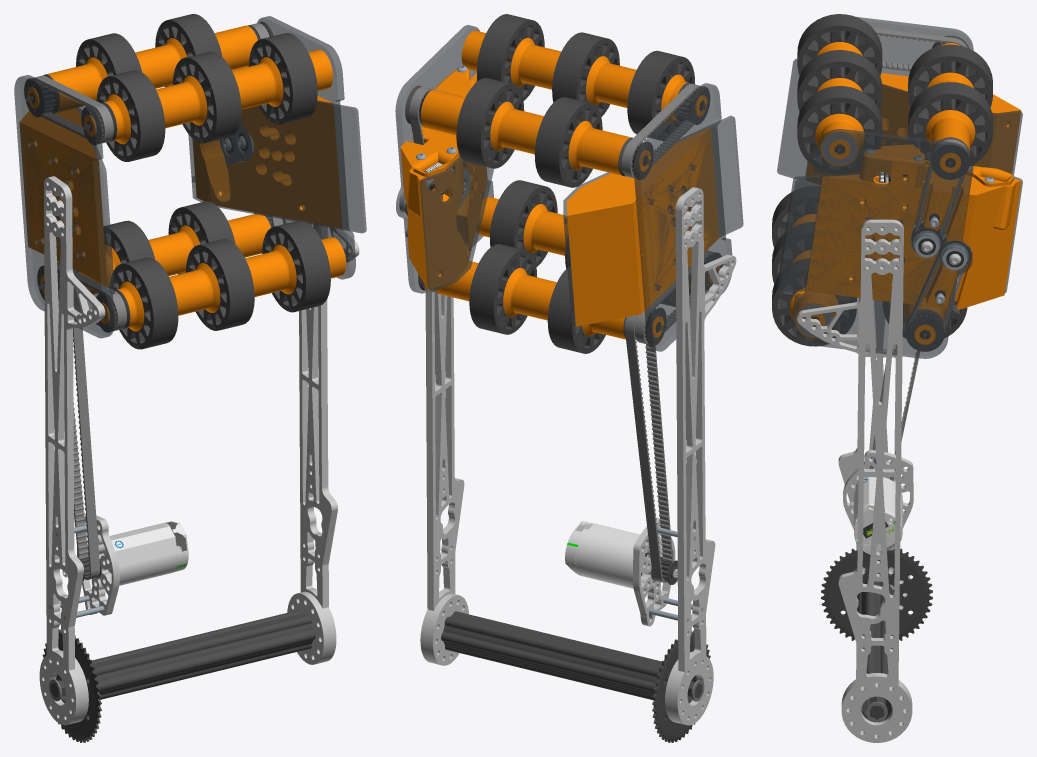
3 renders of one model, left to right at view 1: azimuth 30°, elevation 25°; view 2: azimuth 150°, elevation 25°; view 3: azimuth 270°, elevation 25°, orthographic. The views are drawn at different scales.
Visible parts, largest first — view 1: WCP-1358 (×10), Arm Plate (×2), End effector <1>, BentCoralGuideWithTOFHoles, SidePlateNoGearbox, 3dpSpacerWithGearbox, SplineXL Tube (WCP-0918), 3dpSpacerNoGearbox, 120T HTD Belt, SidePlateWithGearbox, WCP-0941, 60T HTD Belt (×2) (+5 smaller); view 2: Arm Plate (×2), WCP-1358 (×8), 3dpSpacerNoGearbox, End effector <1>, SidePlateNoGearbox, SplineXL Tube (WCP-0918), 3dpSpacerWithGearbox, BentCoralGuideWithTOFHoles, 120T HTD Belt, BentCoralGuide, SidePlateWithGearbox, WCP-0941 (+8 smaller); view 3: SidePlateWithGearbox, WCP-1358 (×9), Arm Plate (×2), 3dpSpacerWithGearbox, BentCoralGuide, End effector <1>, 48t Aluminum Plate Sprocket (#25 Chain, SplineXL Bore), BentCoralGuideWithTOFHoles, 3dpSpacerNoGearbox, SidePlateNoGearbox, TOFcover2, 20T_19MM_Wide_6328_Endcap (×2) (+9 smaller).
Boxes of the visible parts, x1=… form: WCP-1358 (×10): x1=76, y1=14, x2=330, y2=349; Arm Plate (×2): x1=39, y1=176, x2=359, y2=725; End effector <1>: x1=47, y1=25, x2=346, y2=331; BentCoralGuideWithTOFHoles: x1=188, y1=100, x2=366, y2=233; SidePlateNoGearbox: x1=14, y1=75, x2=114, y2=338; 3dpSpacerWithGearbox: x1=193, y1=66, x2=341, y2=227; SplineXL Tube (WCP-0918): x1=56, y1=609, x2=315, y2=702; 3dpSpacerNoGearbox: x1=19, y1=109, x2=107, y2=284; 120T HTD Belt: x1=58, y1=262, x2=100, y2=579; SidePlateWithGearbox: x1=257, y1=16, x2=355, y2=279; WCP-0941: x1=62, y1=523, x2=187, y2=585; 60T HTD Belt (×2): x1=33, y1=75, x2=126, y2=331; Arm Plate (×2): x1=420, y1=187, x2=736, y2=725; WCP-1358 (×8): x1=456, y1=14, x2=695, y2=353; 3dpSpacerNoGearbox: x1=567, y1=127, x2=718, y2=326; End effector <1>: x1=421, y1=30, x2=690, y2=339; SidePlateNoGearbox: x1=633, y1=83, x2=732, y2=351; SplineXL Tube (WCP-0918): x1=441, y1=611, x2=697, y2=703; 3dpSpacerWithGearbox: x1=400, y1=73, x2=486, y2=290; BentCoralGuideWithTOFHoles: x1=419, y1=79, x2=493, y2=291; 120T HTD Belt: x1=625, y1=315, x2=672, y2=582; BentCoralGuide: x1=563, y1=115, x2=743, y2=325; SidePlateWithGearbox: x1=395, y1=25, x2=493, y2=293; WCP-0941: x1=565, y1=523, x2=677, y2=588; SidePlateWithGearbox: x1=791, y1=129, x2=973, y2=358; WCP-1358 (×9): x1=772, y1=14, x2=992, y2=346; Arm Plate (×2): x1=797, y1=219, x2=912, y2=742; 3dpSpacerWithGearbox: x1=806, y1=171, x2=1021, y2=309; BentCoralGuide: x1=777, y1=58, x2=1022, y2=185; End effector <1>: x1=789, y1=42, x2=975, y2=337; 48t Aluminum Plate Sprocket (#25 Chain, SplineXL Bore): x1=821, y1=548, x2=932, y2=640; BentCoralGuideWithTOFHoles: x1=777, y1=173, x2=1022, y2=292; 3dpSpacerNoGearbox: x1=806, y1=73, x2=1021, y2=175; SidePlateNoGearbox: x1=794, y1=17, x2=973, y2=189; TOFcover2: x1=860, y1=144, x2=931, y2=187; 20T_19MM_Wide_6328_Endcap (×2): x1=906, y1=137, x2=969, y2=351.
Bounding box in the file's own units: 0.2667 × 0.6371 × 0.2248.
